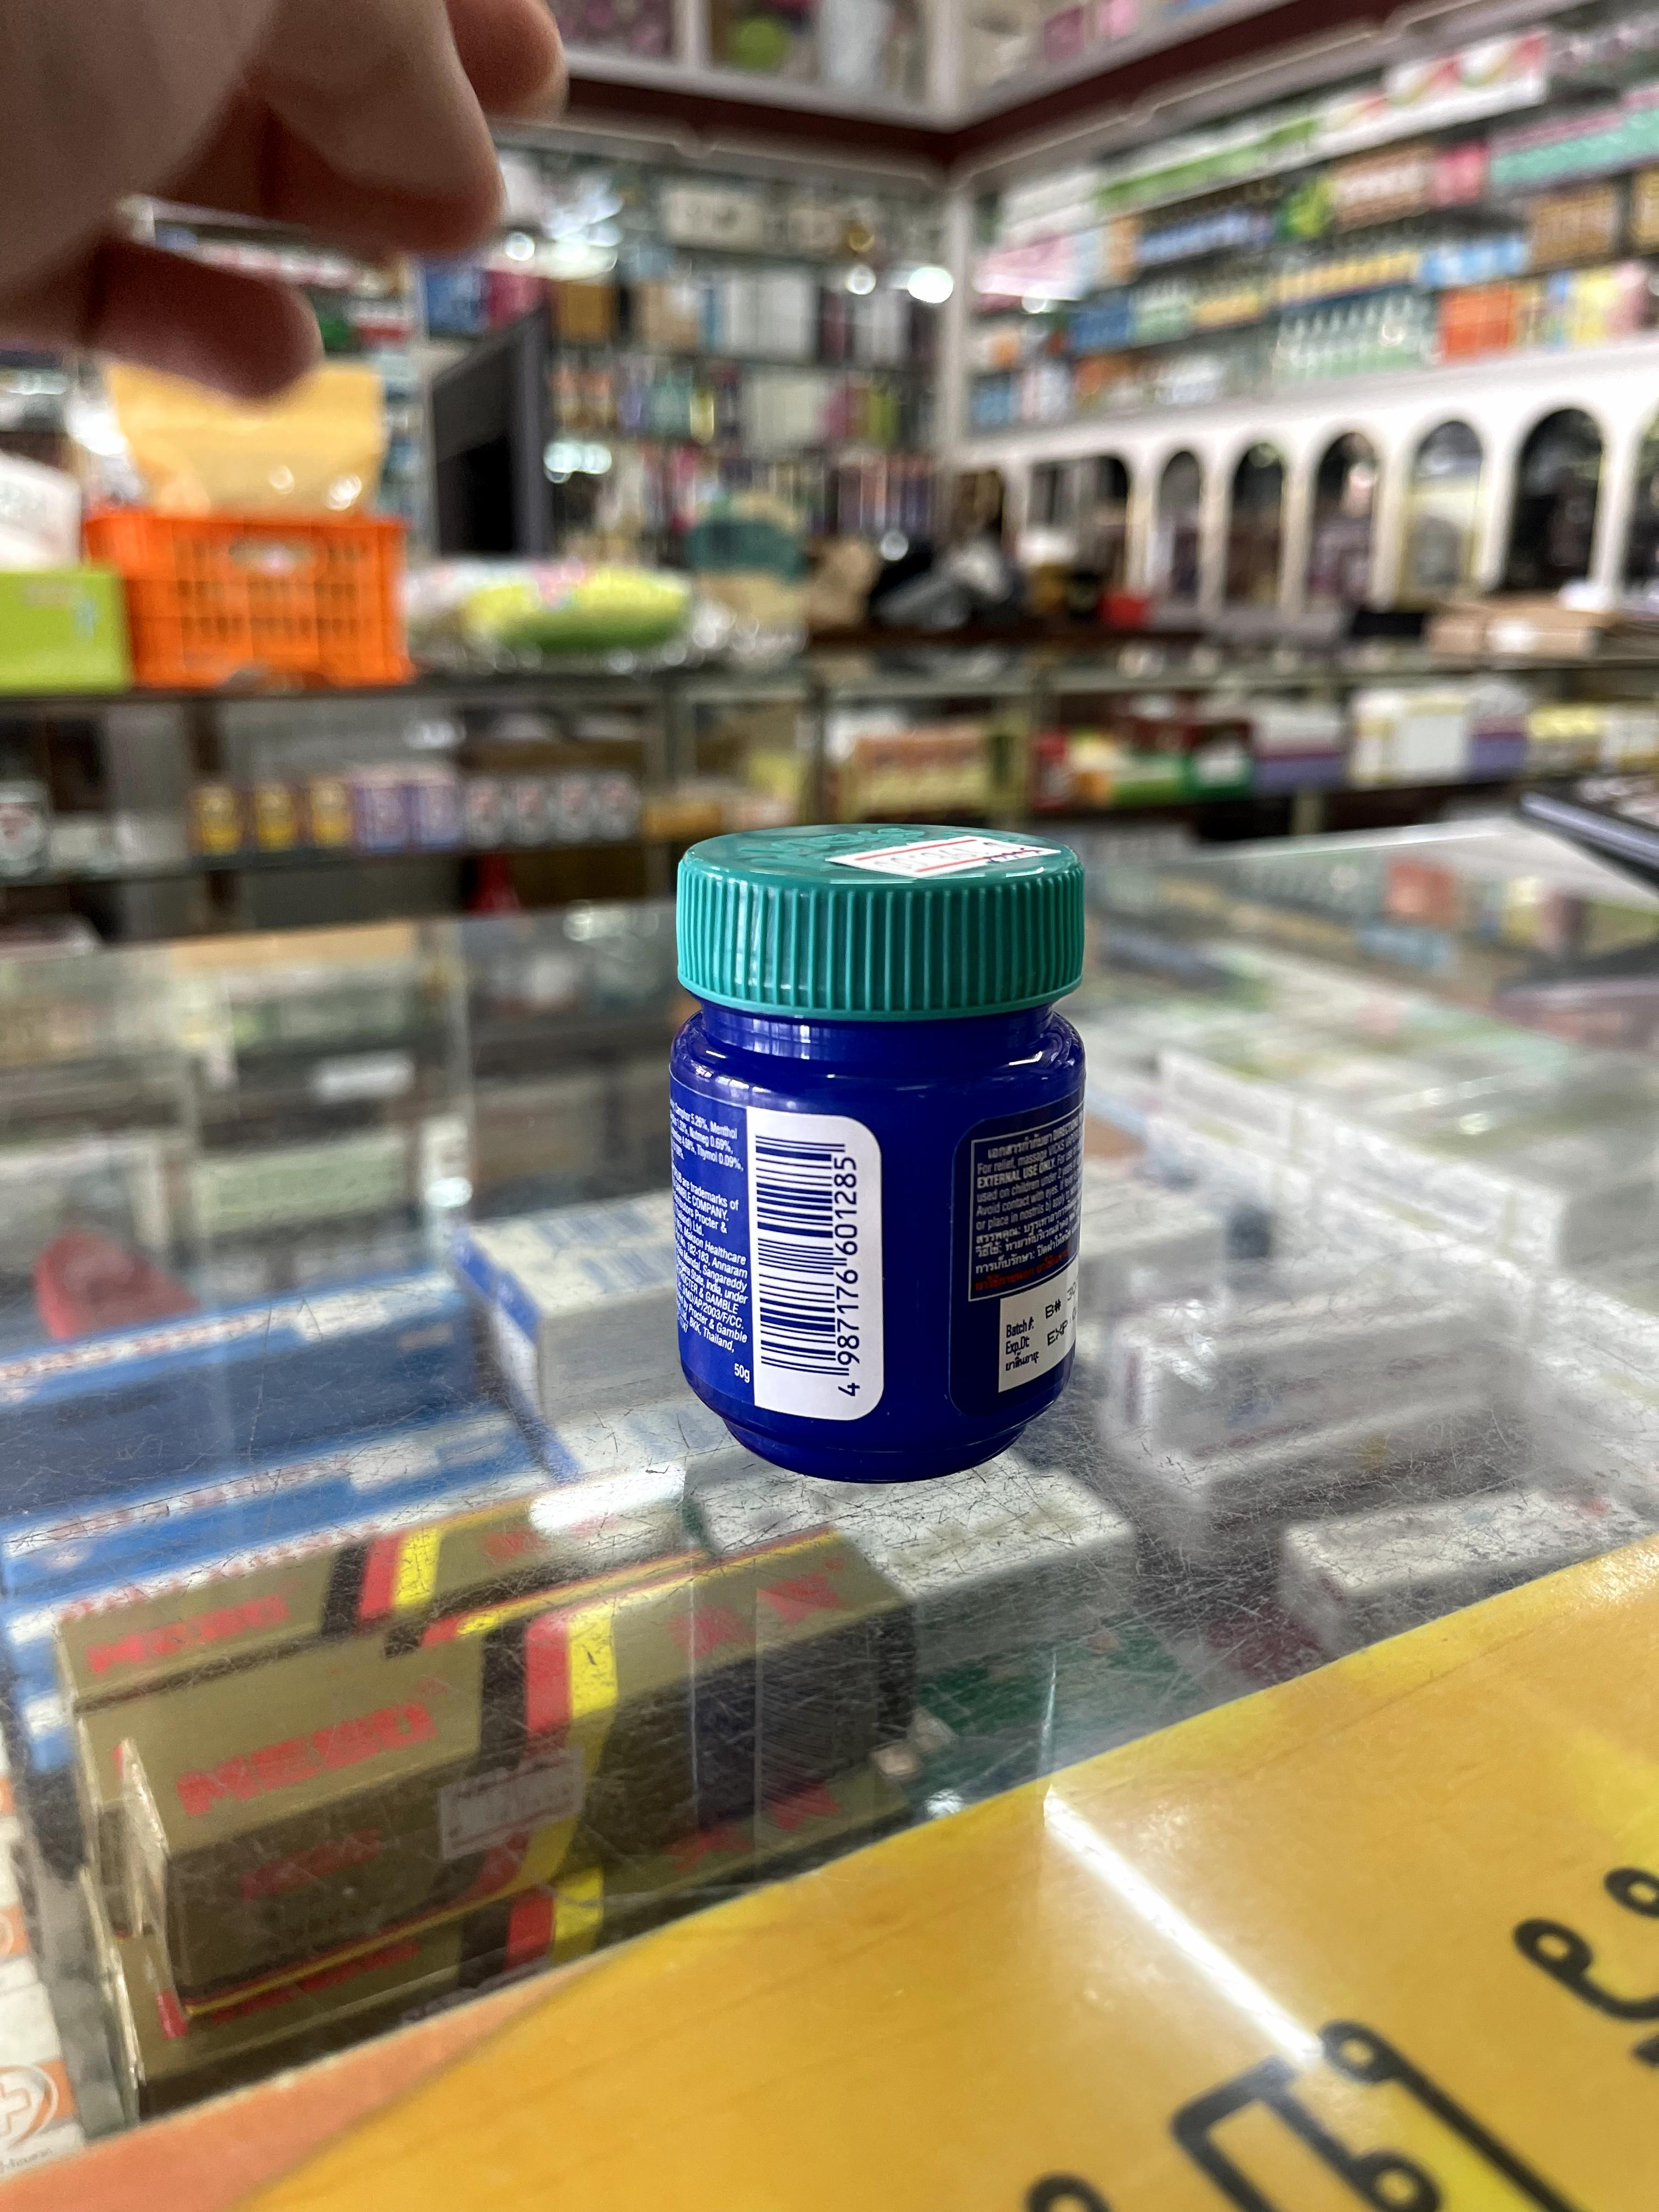VapoRub_Big: (673, 817, 1089, 1475)
